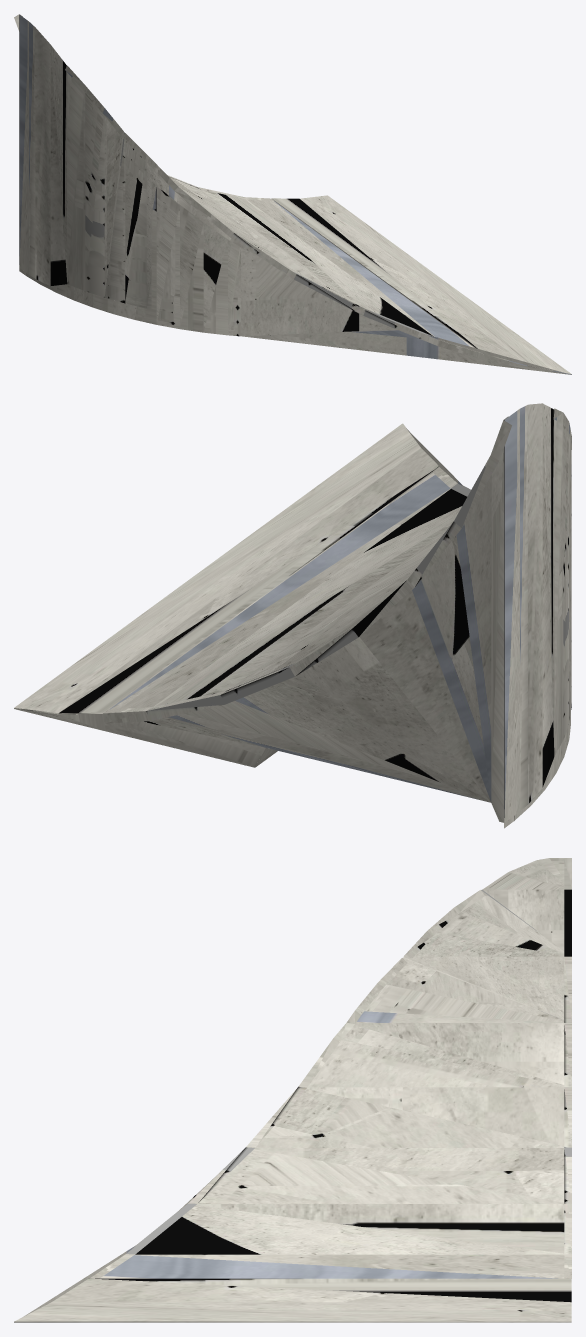
The model's file is cross-ramp-150r.gltf.
The picture shows the model from 3 angles, top to bottom: view 1: azimuth 30°, elevation 25°; view 2: azimuth 150°, elevation 25°; view 3: azimuth 270°, elevation 25°; orthographic projection. The views are drawn at different scales.
Parts seen in each view (by area): view 1: SK1231_Cross-Ramp_150R.001; view 2: SK1231_Cross-Ramp_150R.001; view 3: SK1231_Cross-Ramp_150R.001.
Part boxes in pixels (x1,y1,x2,y2): SK1231_Cross-Ramp_150R.001: (14,14,571,374); SK1231_Cross-Ramp_150R.001: (14,403,571,828); SK1231_Cross-Ramp_150R.001: (14,858,571,1322).
Bounding box in the file's own units: 1.85 × 1.45 × 2.5.
